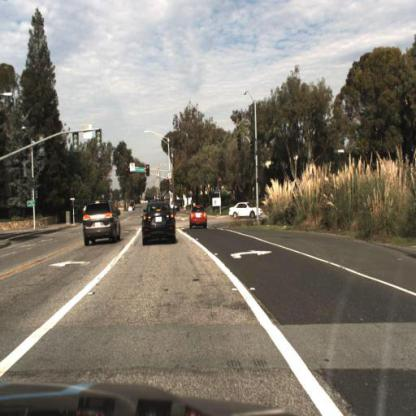car: (83, 197, 122, 246), (143, 202, 177, 244), (225, 198, 265, 219), (229, 203, 264, 219), (189, 205, 211, 228)
trafficLight-Red: (216, 174, 224, 193), (124, 165, 132, 183), (145, 161, 153, 179), (70, 183, 78, 200), (217, 178, 225, 192), (145, 162, 151, 179)
